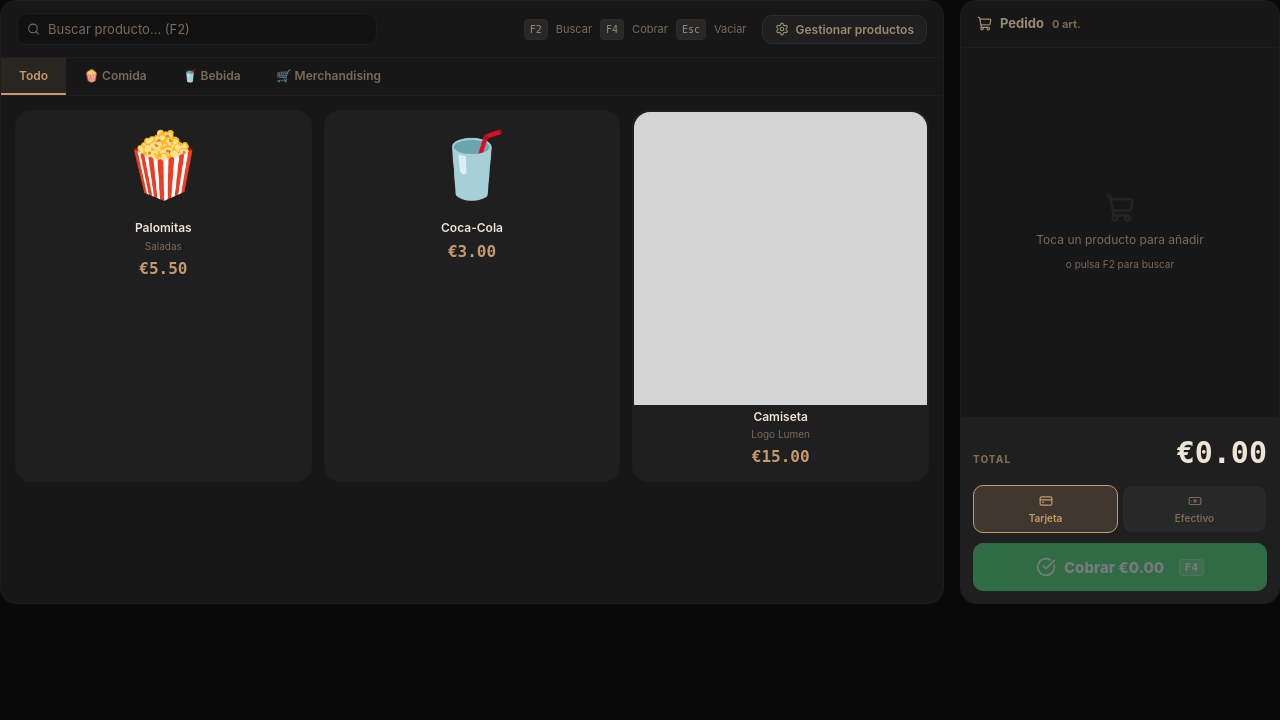
Test: ConcessionPage — comprehensive › opens product manager modal for admin users
Expected: the text "Palomitas" is shown, [135,220,192,235]
Click the button "Gestionar productos". click: (845, 29)
box: [762,14,927,44]
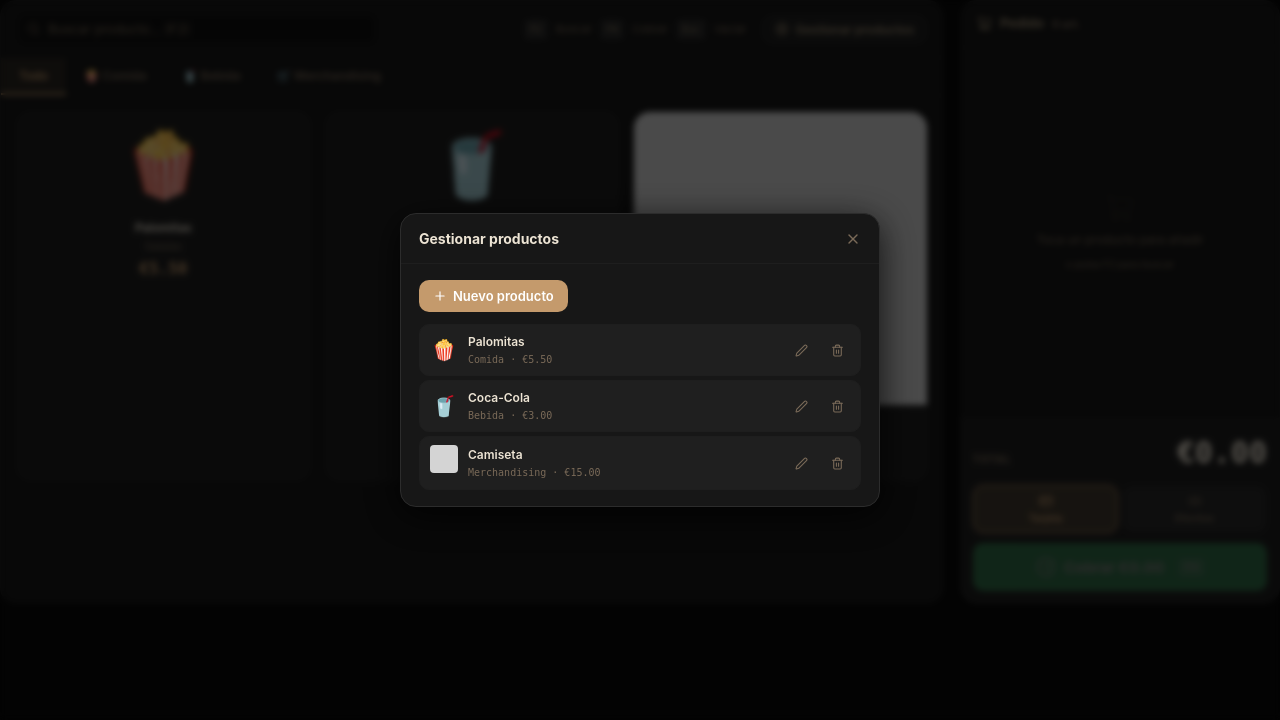
Expected: the dialog is shown, [400,213,880,507]
